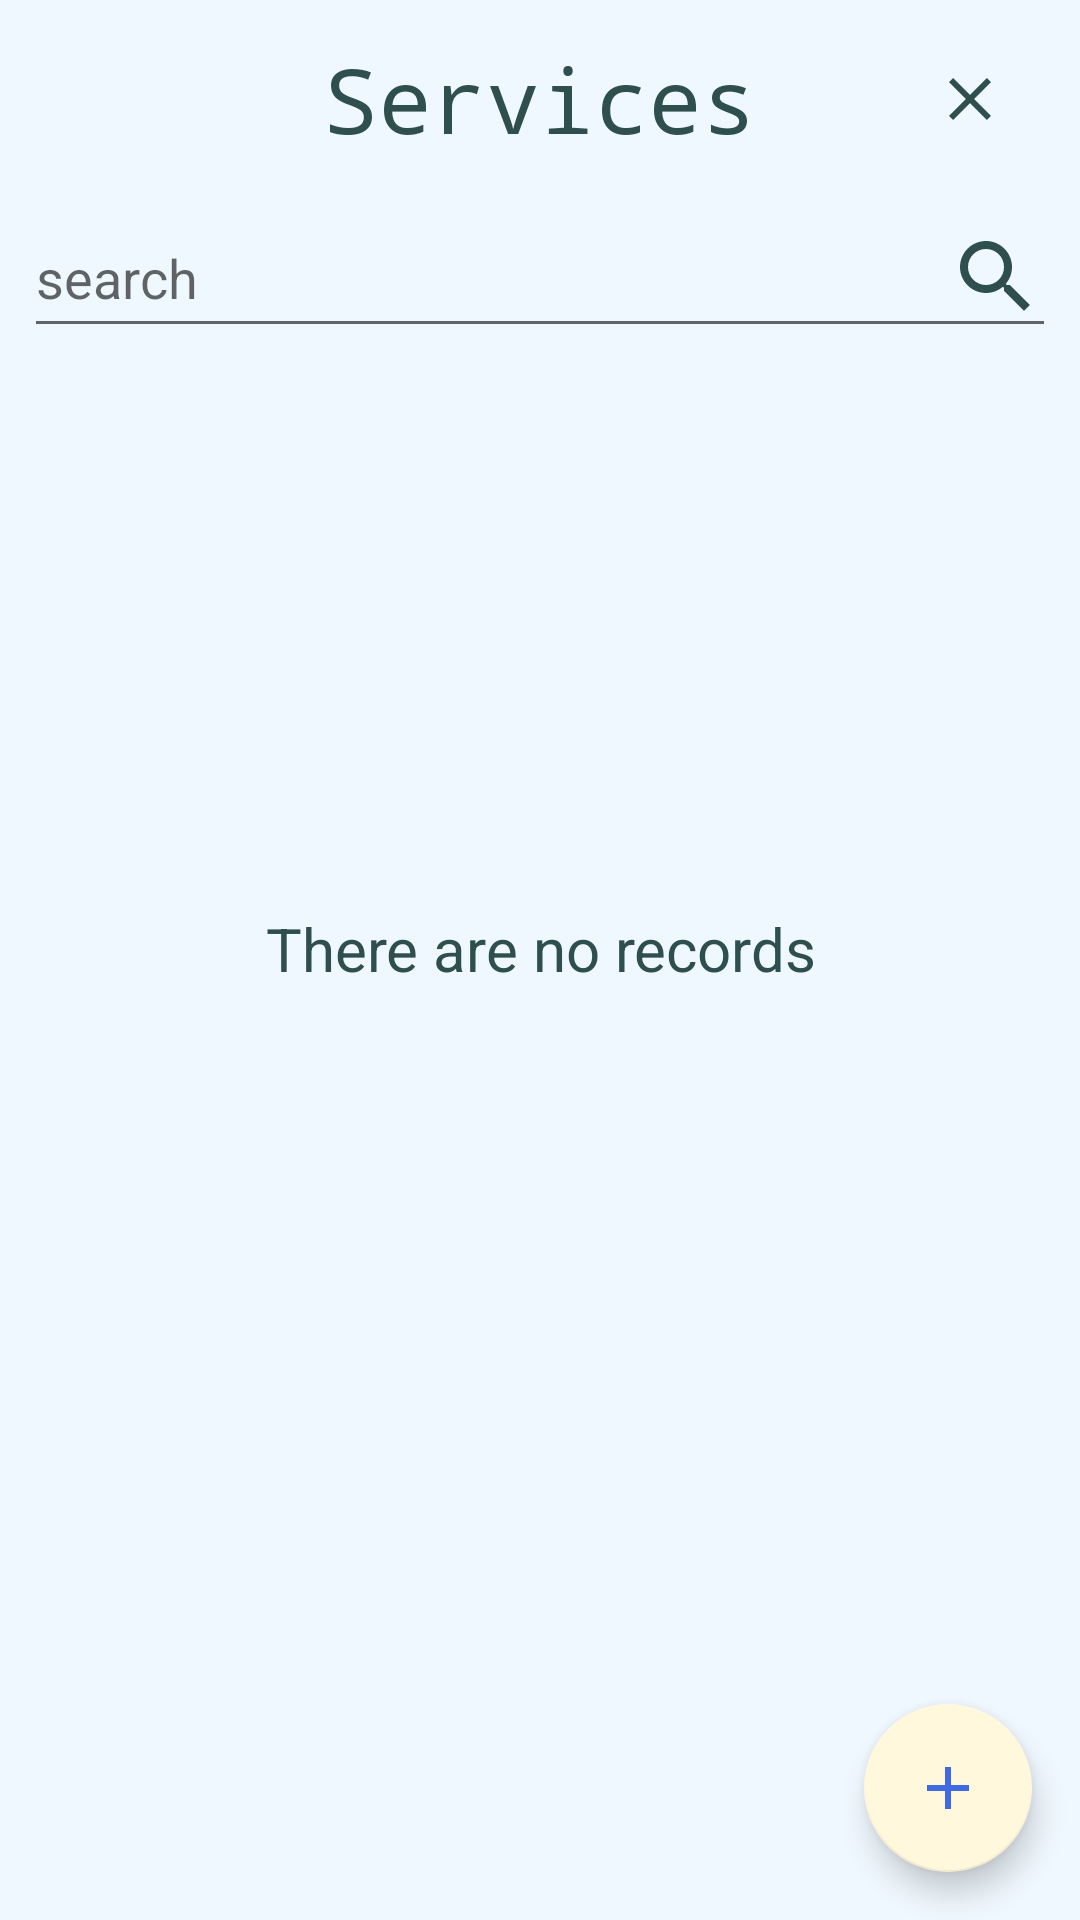

Named icons in this screenshot (1080×1920) and their centers, (x,y):
add service: (948,1788)
close: (970,99)
